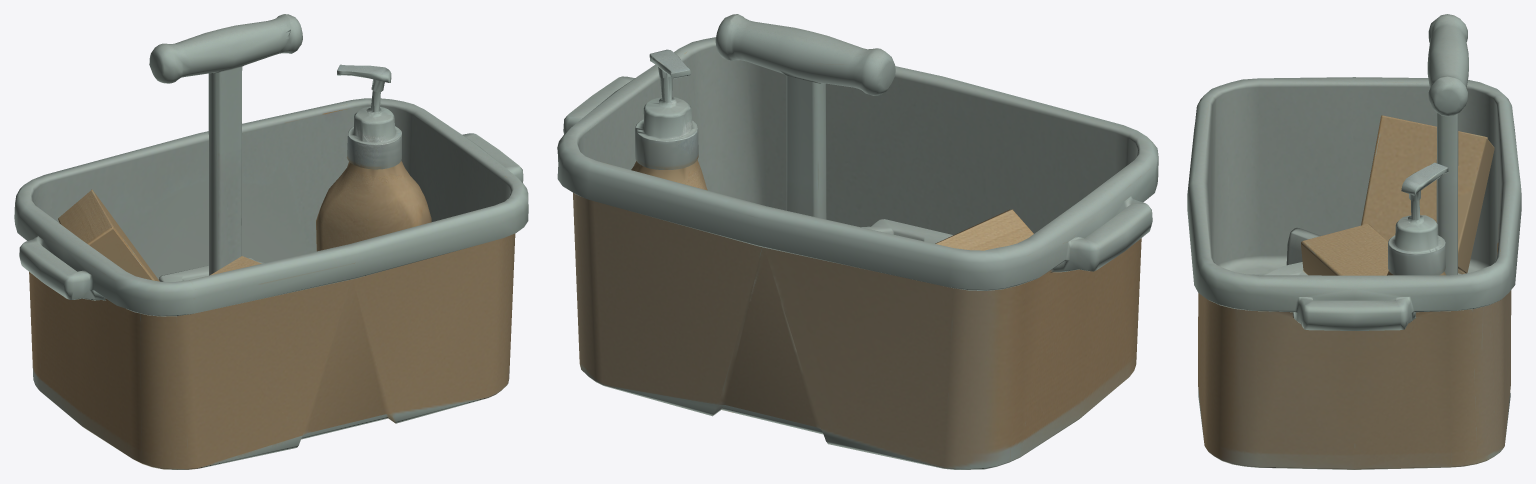
Rendered from wash_caddy.glb.
The picture shows the model from 3 angles, left to right: view 1: azimuth 30°, elevation 25°; view 2: azimuth 150°, elevation 25°; view 3: azimuth 270°, elevation 25°; orthographic projection. The views are drawn at different scales.
Visible parts, largest first — view 1: wash_caddy; view 2: wash_caddy; view 3: wash_caddy.
Part boxes in pixels (x1,y1,x2,y2): wash_caddy: [14, 14, 528, 469]; wash_caddy: [557, 14, 1158, 469]; wash_caddy: [1187, 14, 1521, 469].
Size of the model in its own units: 0.5757 by 0.38 by 0.3488.
Materials: 1 (1 with a texture image).
